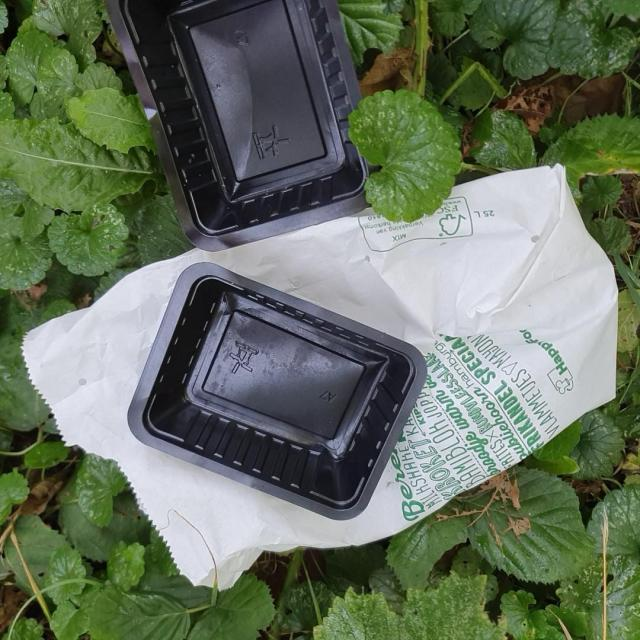Plastic: (125, 260, 429, 522), (97, 0, 383, 253)
